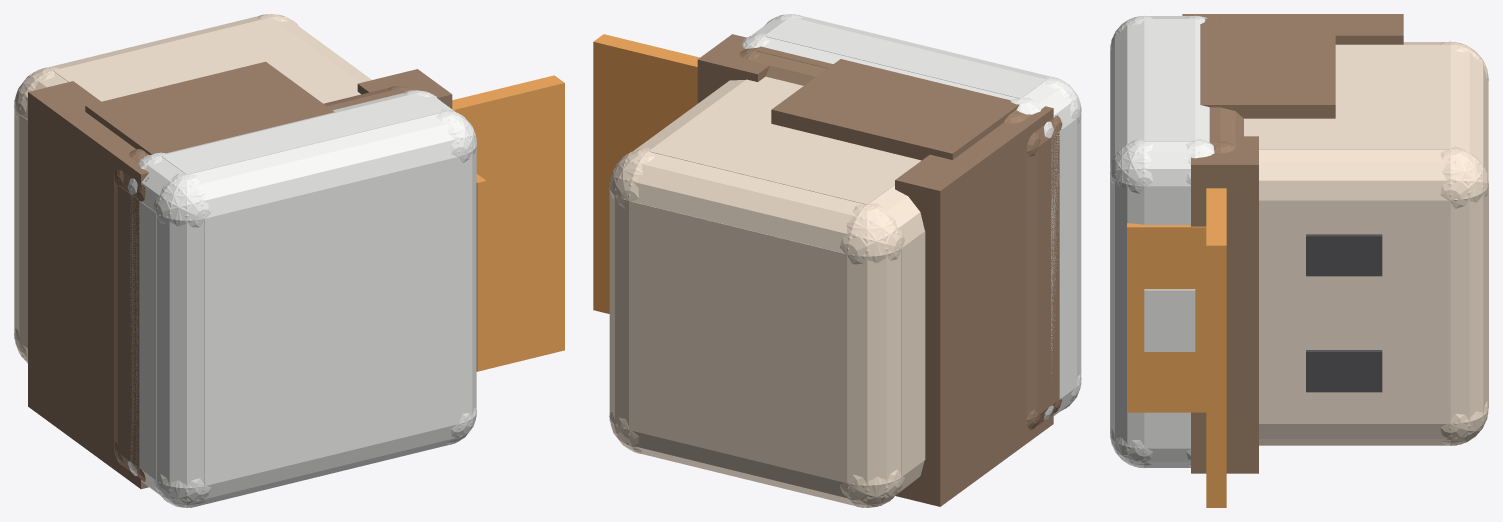
Rendered from head.glb.
The picture shows the model from 3 angles, left to right: view 1: azimuth 30°, elevation 25°; view 2: azimuth 150°, elevation 25°; view 3: azimuth 270°, elevation 25°; orthographic projection. The views are drawn at different scales.
Visible parts, largest first — view 1: cap_z_visual, hair_back_visual, cap_brim_visual, cap_edge5_visual, cap_edge3_visual, hair_side_left_visual, head_y_visual, cap_y_visual, hair_top_x_visual, cap_x_visual, cap_edge1_visual, cap_edge7_visual (+11 smaller); view 2: head_z_visual, hair_back_visual, hair_side_left_visual, head_y_visual, head_edge4_visual, cap_brim_visual, head_edge2_visual, cap_y_visual, hair_top_x_visual, head_x_visual, cap_x_visual, head_edge0_visual (+12 smaller); view 3: head_x_visual, head_y_visual, hair_fringe_visual, hair_side_left_visual, cap_front_visual, head_edge11_visual, head_edge6_visual, cap_brim_visual, cap_y_visual, cap_edge7_visual, cap_edge3_visual, head_edge2_visual (+13 smaller).
Part boxes in pixels (<box>): cap_z_visual: <box>204,156,459,485</box>; hair_back_visual: <box>28,81,148,489</box>; cap_brim_visual: <box>452,75,564,371</box>; cap_edge5_visual: <box>156,173,205,507</box>; cap_edge3_visual: <box>153,111,476,226</box>; hair_side_left_visual: <box>85,61,334,154</box>; head_y_visual: <box>53,17,360,103</box>; cap_y_visual: <box>161,93,441,174</box>; hair_top_x_visual: <box>117,185,139,467</box>; cap_x_visual: <box>130,195,156,480</box>; cap_edge1_visual: <box>153,408,476,507</box>; cap_edge7_visual: <box>437,109,476,444</box>; head_z_visual: <box>629,201,847,483</box>; hair_back_visual: <box>895,106,1053,506</box>; hair_side_left_visual: <box>771,59,1019,160</box>; head_y_visual: <box>649,76,921,204</box>; head_edge4_visual: <box>846,203,901,507</box>; cap_brim_visual: <box>593,34,699,313</box>; head_edge2_visual: <box>609,150,904,262</box>; cap_y_visual: <box>764,17,1046,98</box>; hair_top_x_visual: <box>1037,131,1059,415</box>; head_x_visual: <box>901,231,925,476</box>; cap_x_visual: <box>1051,118,1076,399</box>; head_edge0_visual: <box>609,412,904,507</box>; head_x_visual: <box>1259,200,1450,423</box>; head_y_visual: <box>1244,45,1450,149</box>; hair_fringe_visual: <box>1191,136,1258,473</box>; hair_side_left_visual: <box>1200,18,1335,118</box>; cap_front_visual: <box>1127,223,1206,412</box>; head_edge11_visual: <box>1259,149,1488,202</box>; head_edge6_visual: <box>1440,146,1488,445</box>; cap_brim_visual: <box>1206,188,1226,507</box>; cap_y_visual: <box>1144,19,1195,141</box>; cap_edge7_visual: <box>1110,139,1152,467</box>; cap_edge3_visual: <box>1110,15,1152,193</box>; head_edge2_visual: <box>1440,41,1488,208</box>.
Size of the model in its own units: 0.585 by 0.42 by 0.445.
